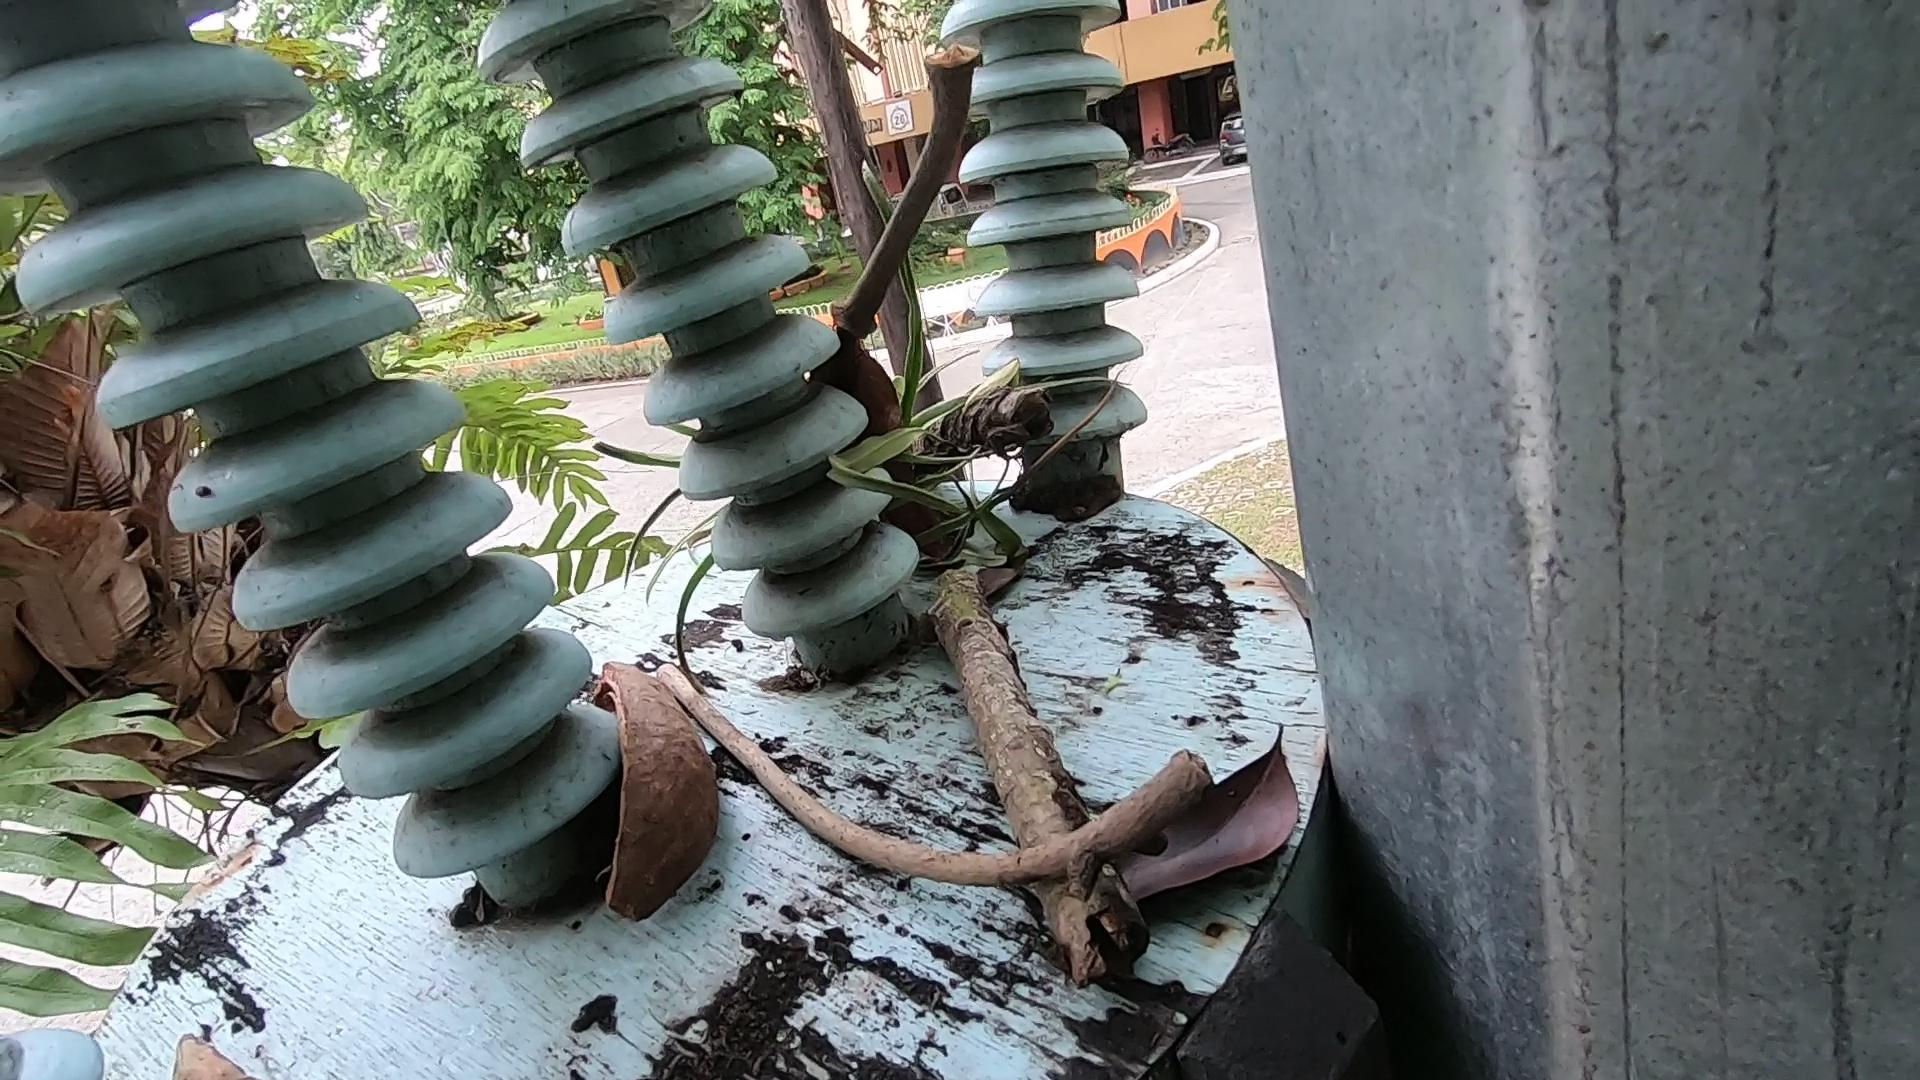branch with leaves: (851, 319, 1176, 978)
leaf: (1122, 673, 1349, 949), (138, 1017, 305, 1080)
mahogany fruit: (520, 661, 762, 963), (799, 324, 1000, 659)
tree branch: (654, 640, 1265, 934), (828, 1, 1006, 365)
